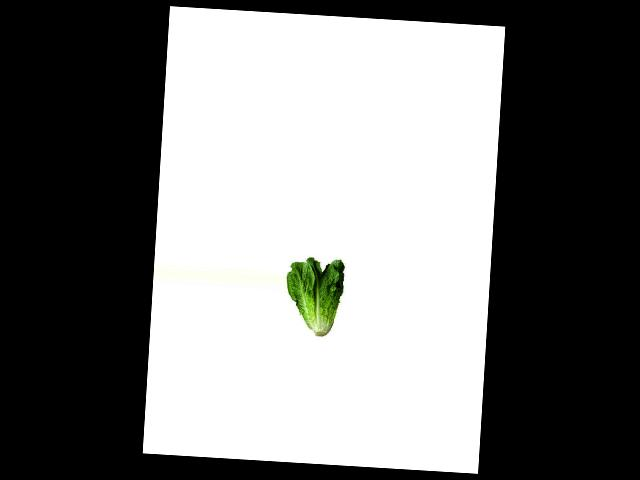lettuce: (283, 256, 346, 339)
